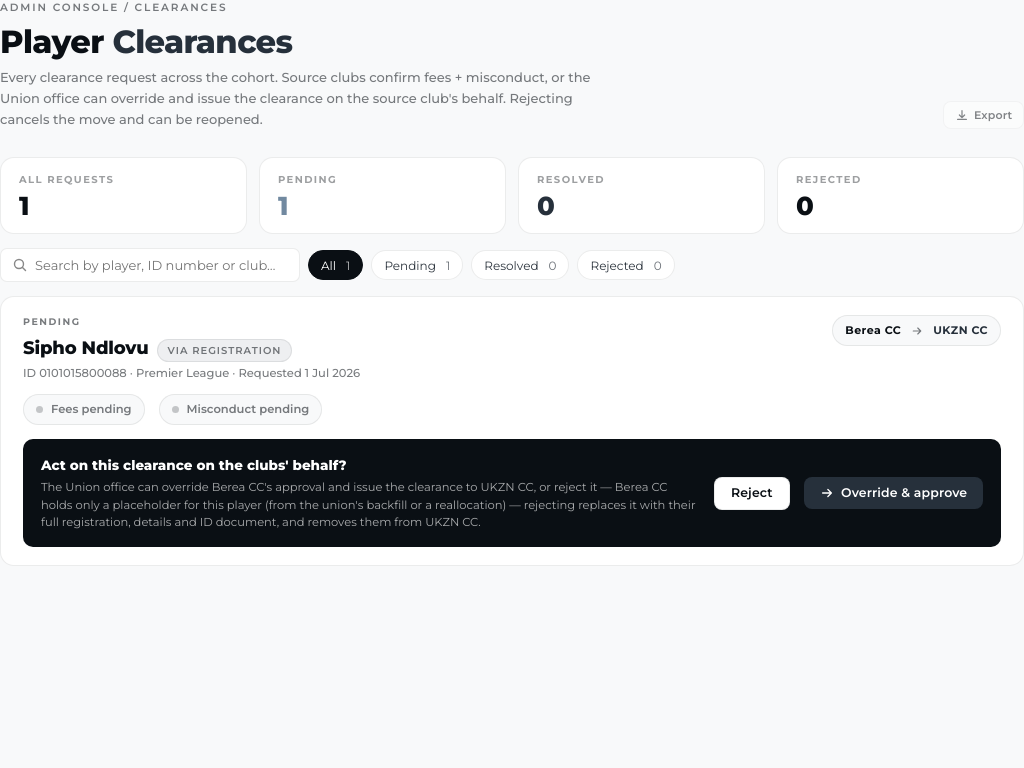
Test: the reject confirmation names the predicted case › case B-placeholder — the full registration replaces the placeholder at the source
Click the button "Reject" at (752, 493), box left=714, top=477, right=790, bottom=509
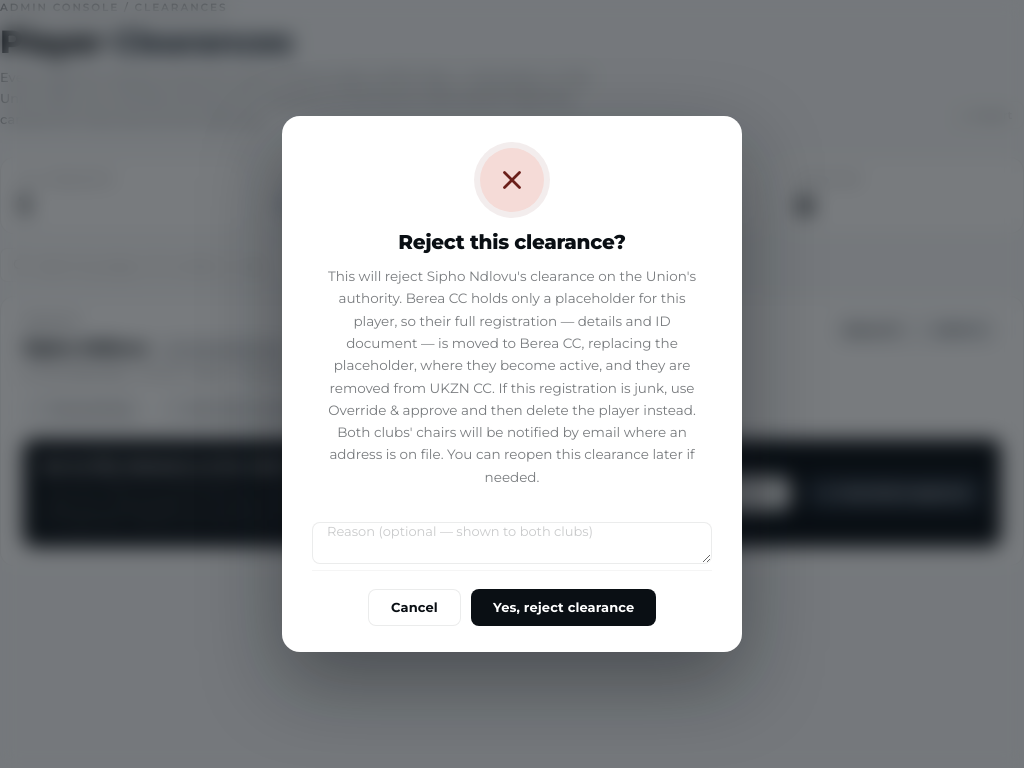
Result: the text "If this registration is junk, use Override & approve" is shown at left=328, top=268, right=696, bottom=485
